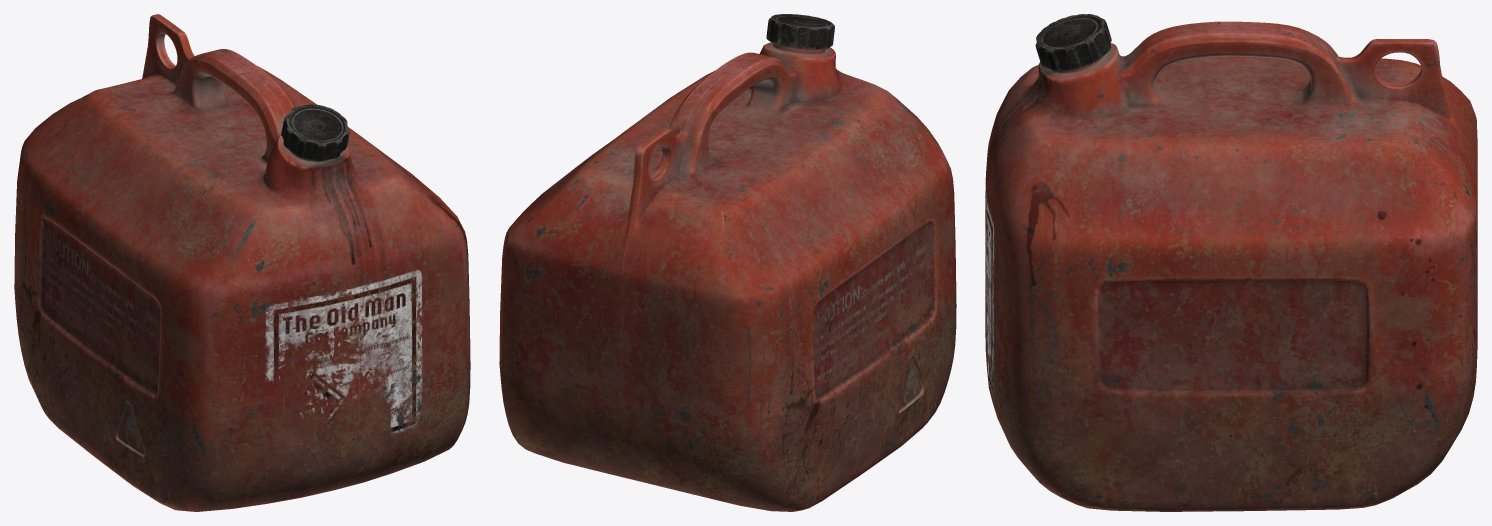
The model's file is plastic_jerrycan.glb.
3 renders of one model, left to right at view 1: azimuth 30°, elevation 25°; view 2: azimuth 150°, elevation 25°; view 3: azimuth 270°, elevation 25°, orthographic. The views are drawn at different scales.
Parts seen in each view (by area): view 1: plastic_jerrycan; view 2: plastic_jerrycan; view 3: plastic_jerrycan.
Boxes of the visible parts, left/top/right/bottom form: plastic_jerrycan: left=14, top=14, right=470, bottom=511; plastic_jerrycan: left=499, top=14, right=956, bottom=511; plastic_jerrycan: left=985, top=14, right=1477, bottom=511.
Size of the model in its own units: 0.268 by 0.3184 by 0.3409.
1 material, 1 textured.
